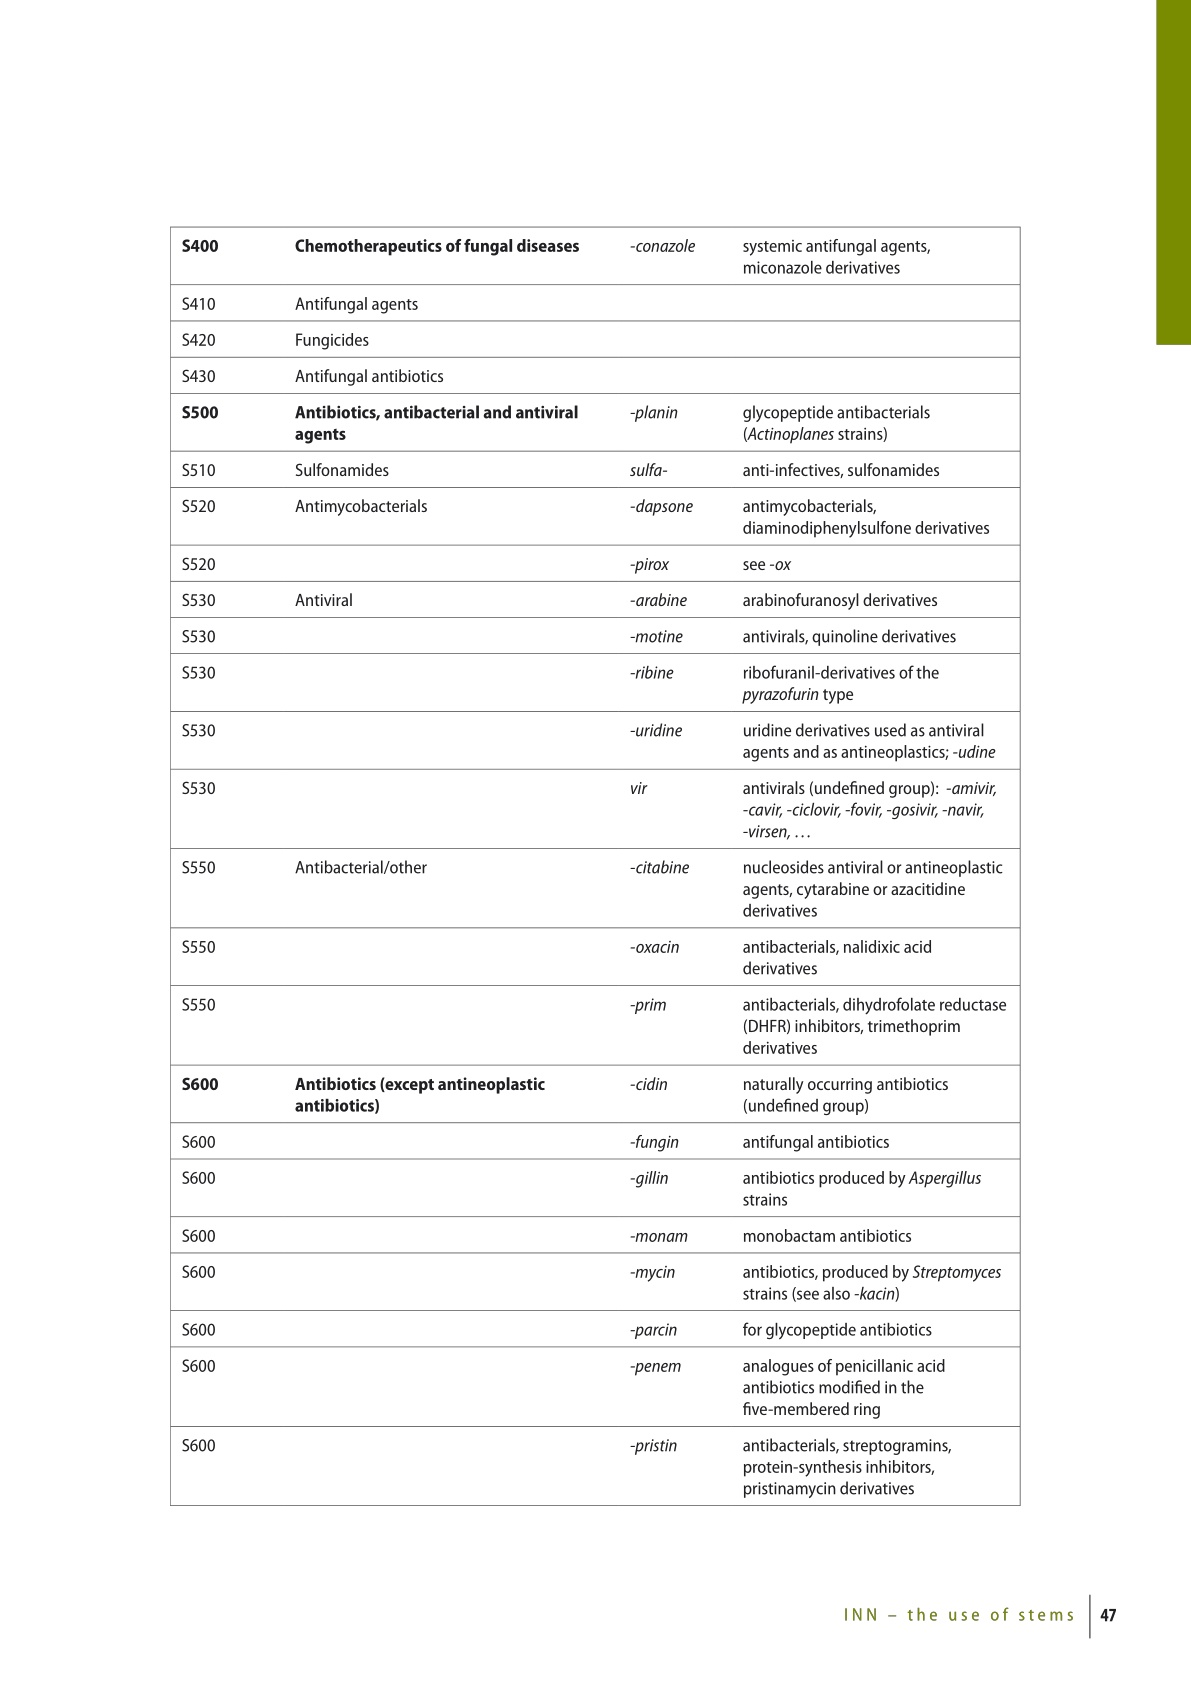partial_lined: (170, 225, 1022, 1507)
